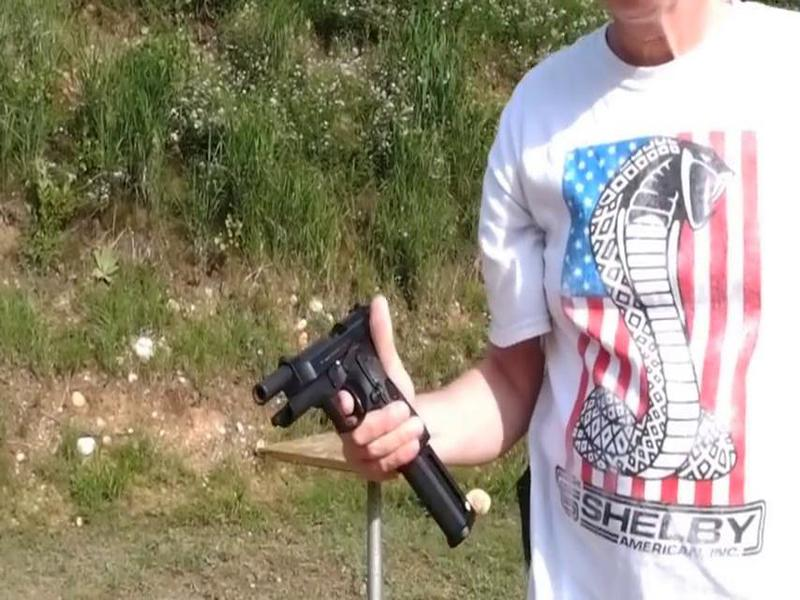Pistola: (236, 294, 463, 467)
